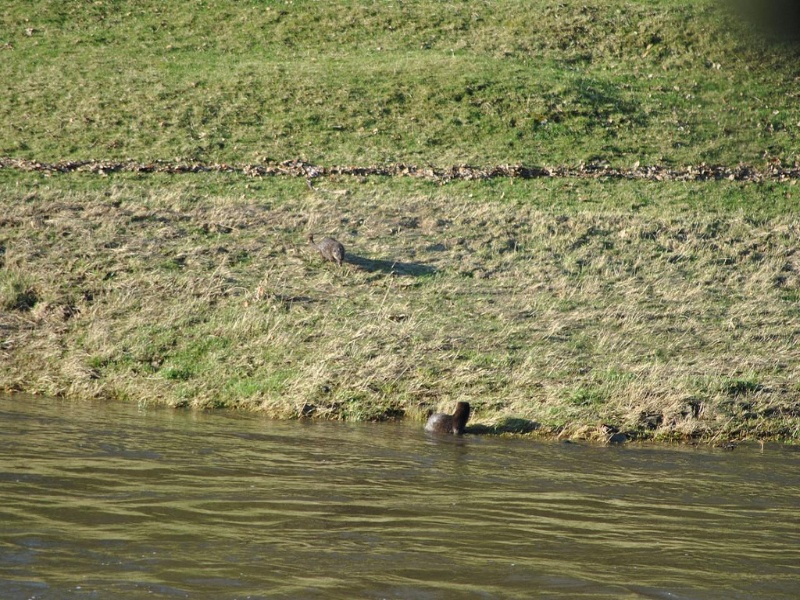minkish: (424, 396, 472, 443), (304, 228, 348, 267)
